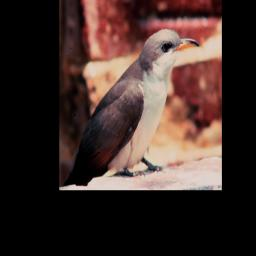Cuckoo: (63, 29, 200, 188)
